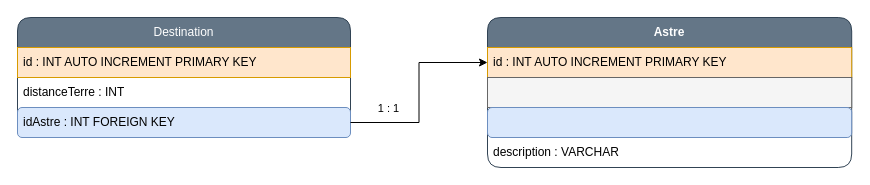
Image size: 870x185. Some labels were removed from this diagram. Here are the shapes that lost their labels. From the top down, the centre of each, then its label:
At point (669, 92): "Nom : VARCHAR UNIQUE KEY".
At point (669, 122): "idType: INT FOREIGN KEY".
